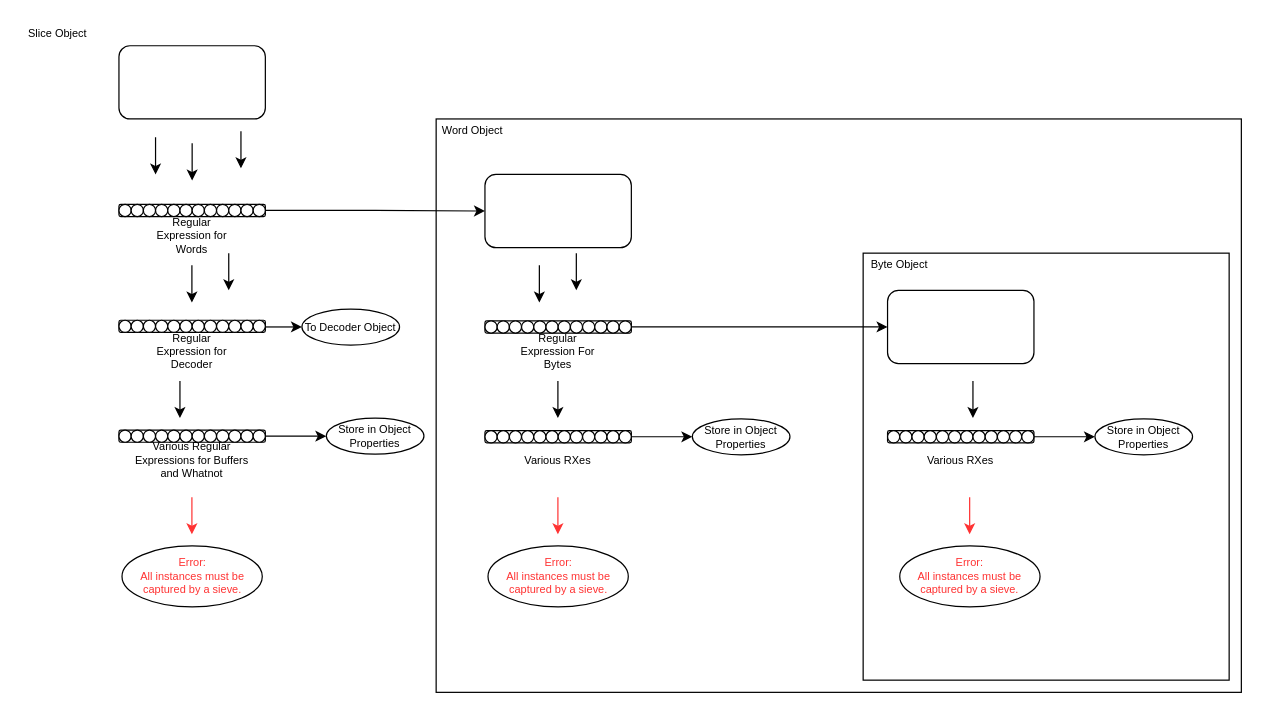
This 1263x714 diagram has some shape labels left out. The centre of each missing label's shape, as x and y in pixels:
"All Instances" belongs at [191,82].
"Byte Instances" belongs at [960,326].
"Word Instances" belongs at [557,210].
